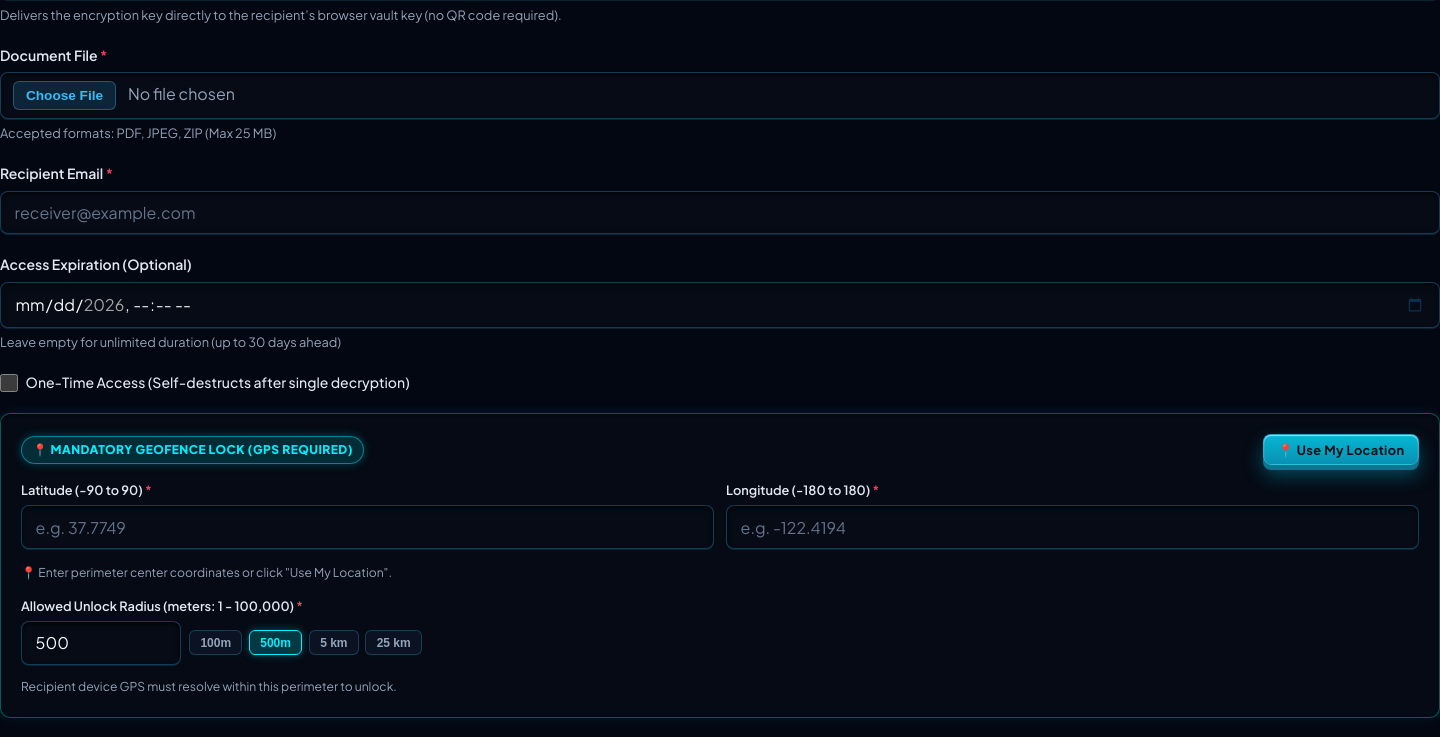
Test: UploadForm Component Tests › Phase 7 Batch 2 Secure Delivery & Vault Key Integration › supports "Use My Location", radius quick-select pills, and max attempts selector
What coordinates should you click on to do the following:
click the button "📍 Use My Location"
I would click on:
 (1341, 450)
Its box is [1263, 434, 1419, 465].
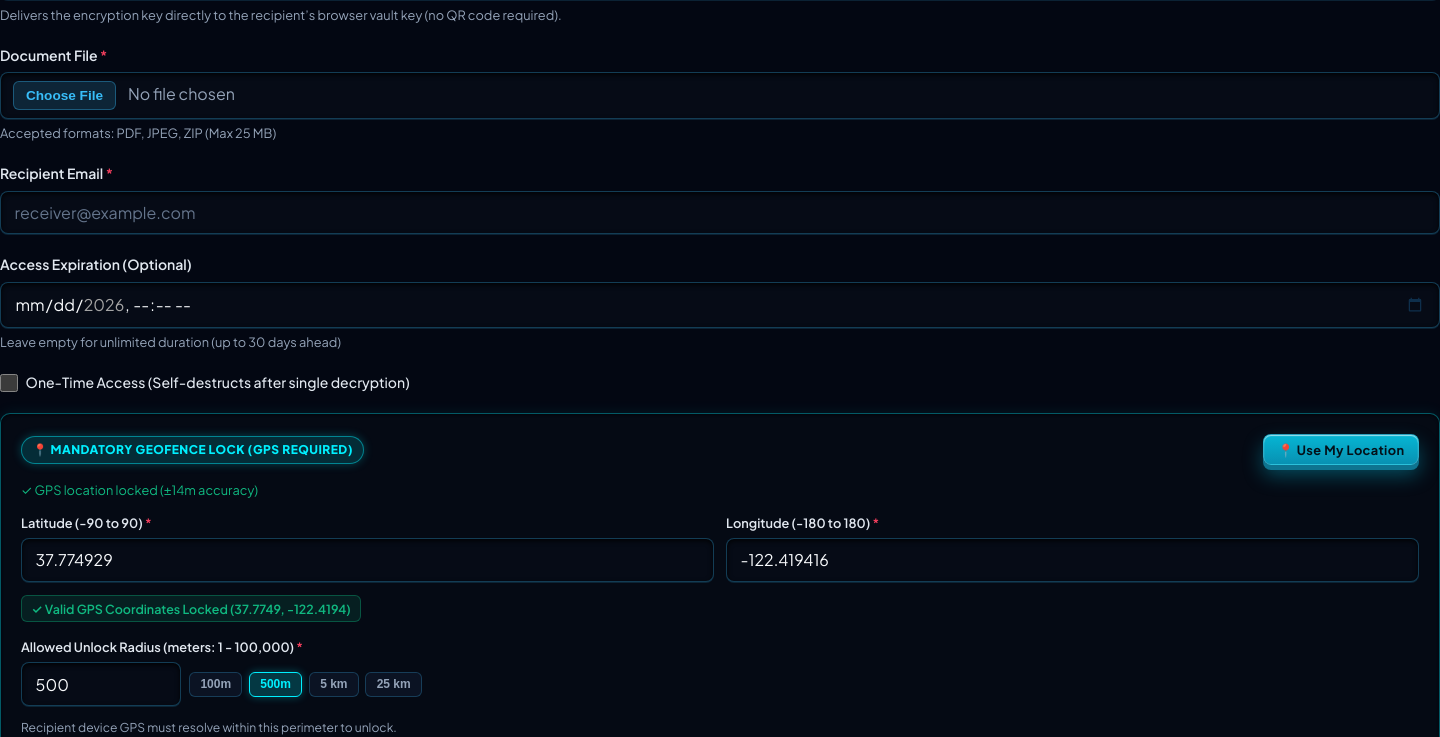
Now the text "✓ GPS location locked (±14m accuracy)" is shown, box [21, 482, 258, 498]
Now the number field labelled "Latitude (-90 to 90) *" holds "37.774929", box [21, 538, 714, 582]
Now the number field labelled "Longitude (-180 to 180) *" holds "-122.419416", box [726, 538, 1419, 582]
# Click 5 km pill
What coordinates should you click on to do the following:
click the button "5 km"
I would click on:
 (334, 684)
Its box is [309, 672, 359, 697].
(page scrolled)
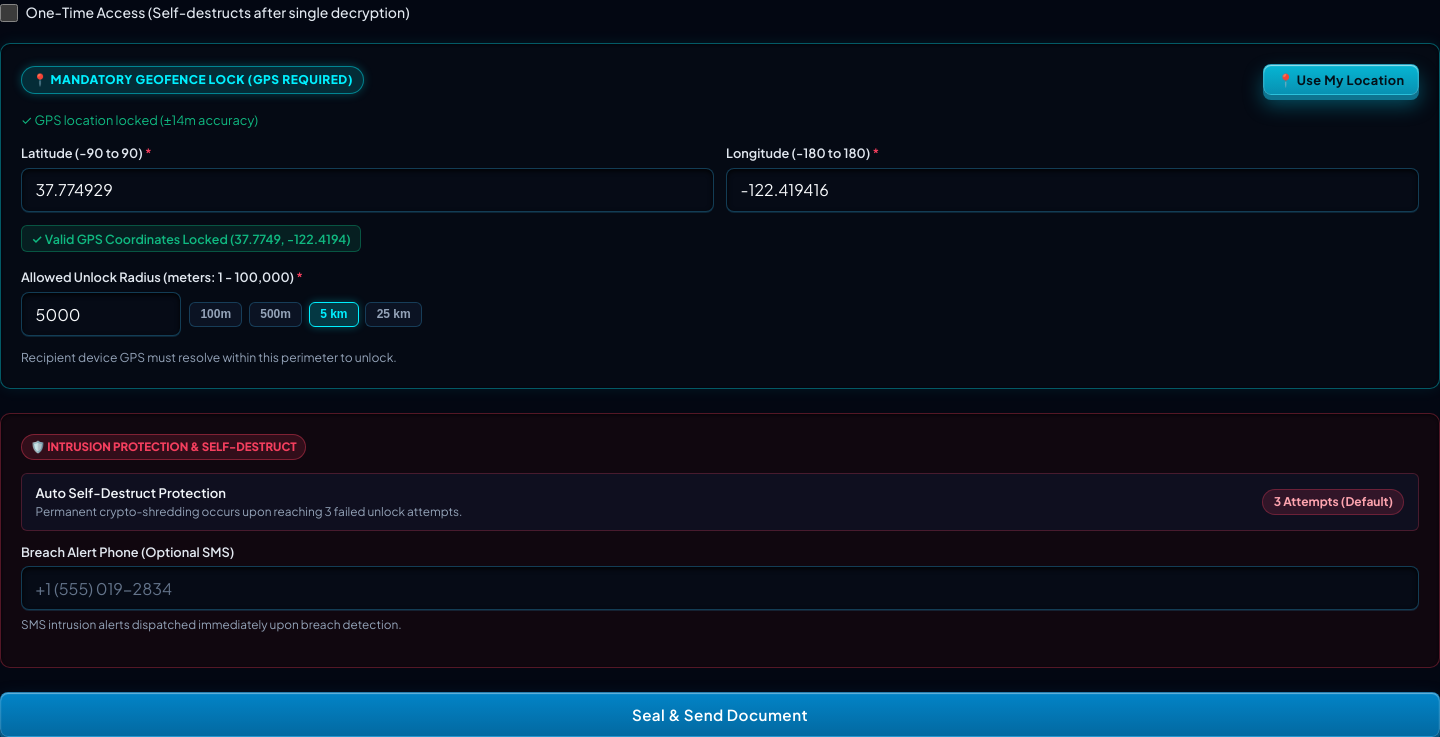
Expected: the text "3 Attempts (Default)" is shown, [1262, 489, 1404, 515]
Now the number field labelled "Allowed Unlock Radius (meters: 1 - 100,000) *" holds "5000", box [21, 292, 181, 336]
